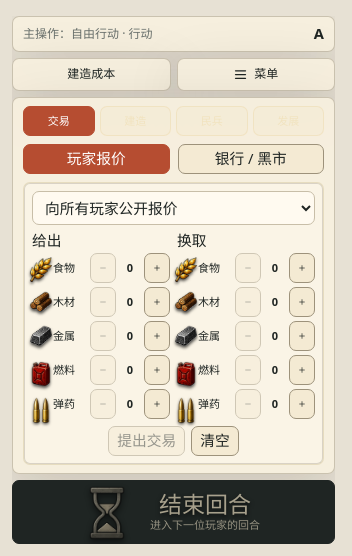
Test: RightOperationDock › keeps circled controls text-only while preserving build tool asset icons
Click the tab "建造" at (135, 121), box [100,106,171,136]
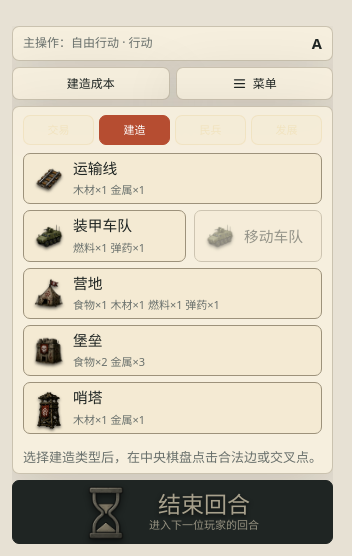
Result: the element with class "convoy-tool-row" is shown at [23,210,322,262]
Result: the button "装甲车队 燃料×1 弹药×1" is shown at [23,210,186,262]
Result: the button "移动车队" is shown at [194,210,322,262]
